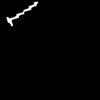half_double_crochet: (7, 2, 37, 25)
